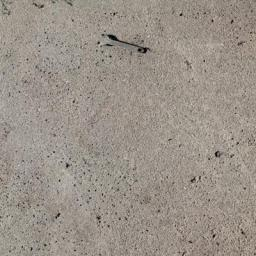FOD: (95, 30, 152, 58)
